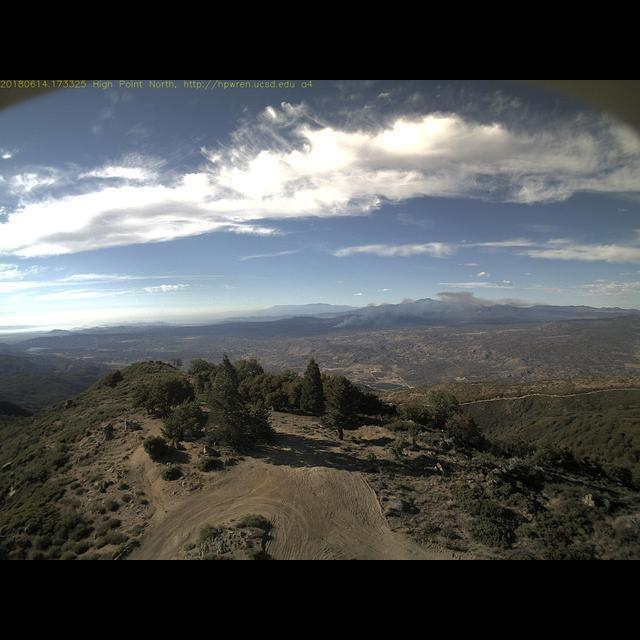Smoke: (330, 284, 527, 330)
